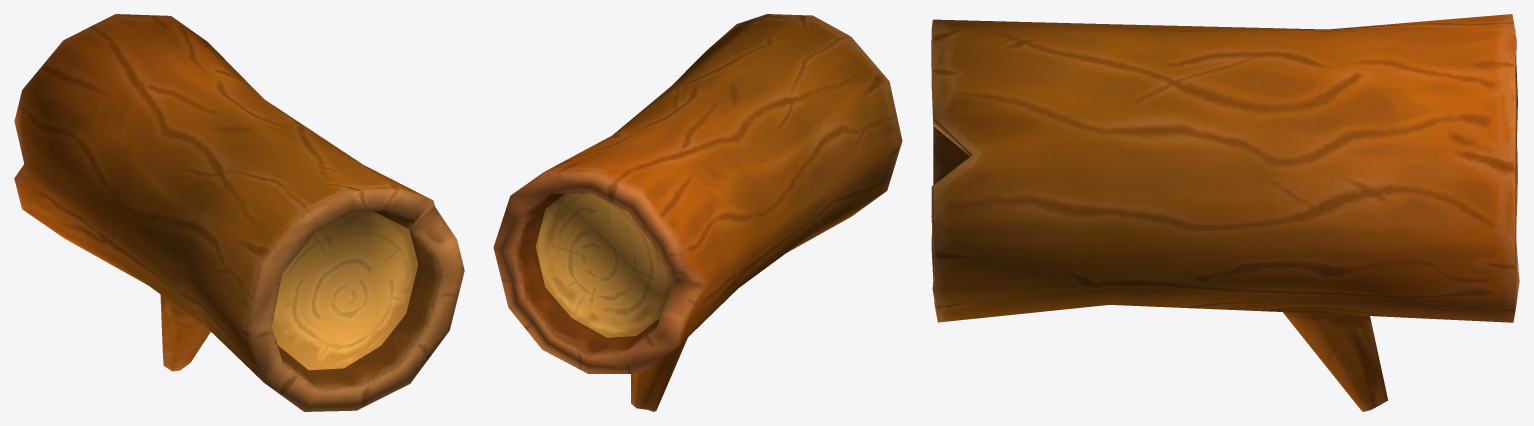
Rendered from buche.glb.
3 renders of one model, left to right at view 1: azimuth 30°, elevation 25°; view 2: azimuth 150°, elevation 25°; view 3: azimuth 270°, elevation 25°, orthographic. The views are drawn at different scales.
Visible parts, largest first — view 1: log_low_Material.001_0; view 2: log_low_Material.001_0; view 3: log_low_Material.001_0.
Part boxes in pixels (box(x1,y1,x2,y2)): log_low_Material.001_0: box(14, 14, 464, 411); log_low_Material.001_0: box(493, 14, 902, 411); log_low_Material.001_0: box(931, 14, 1519, 411).
Size of the model in its own units: 1.96 by 2.67 by 3.76.
1 material, 1 textured.
